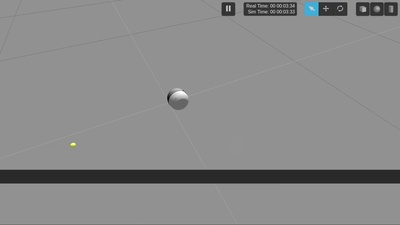mira_robot: (167, 88, 189, 110)
